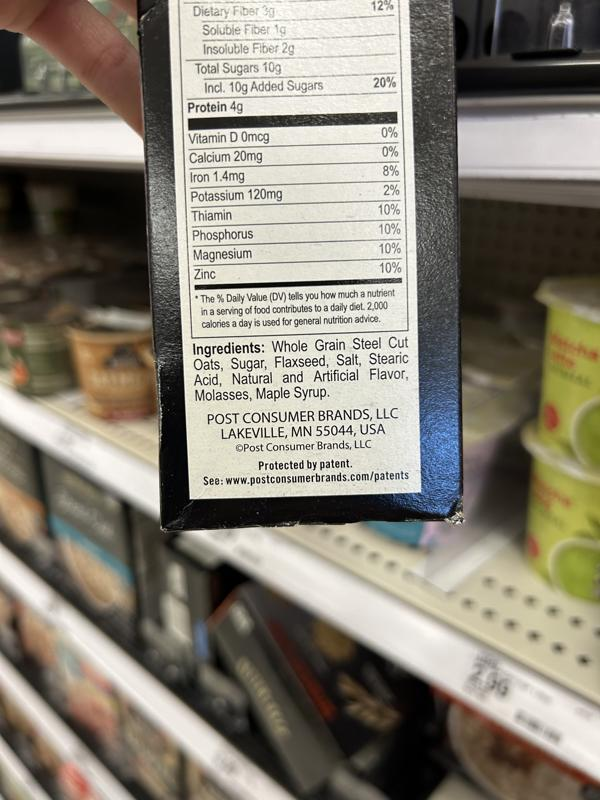ingredients: (190, 335, 411, 402)
